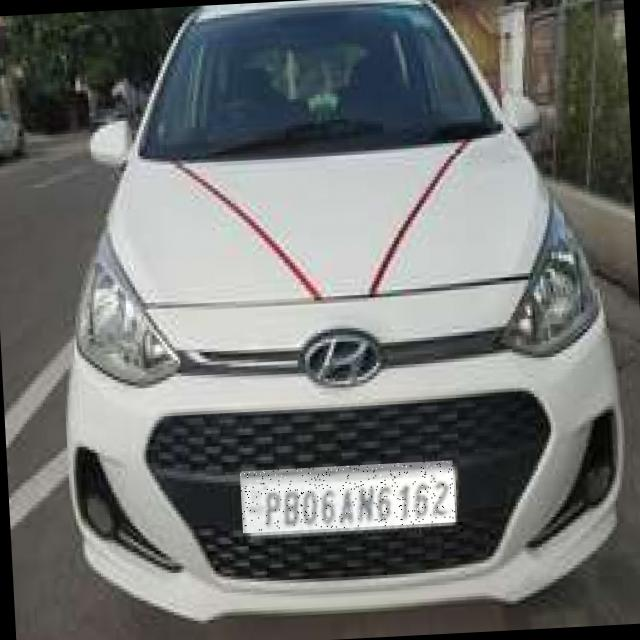Plate: (241, 462, 457, 535)
